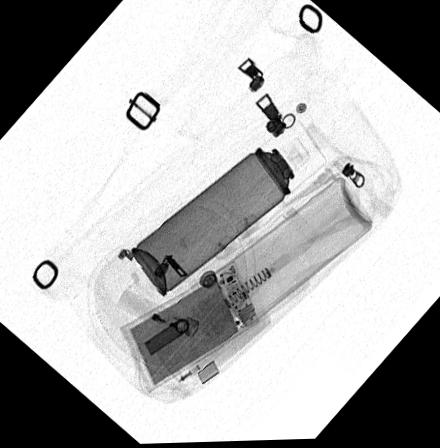Lighter: (114, 287, 198, 342)
Powerbank: (119, 261, 262, 393)
Sprayer: (129, 121, 326, 297)
